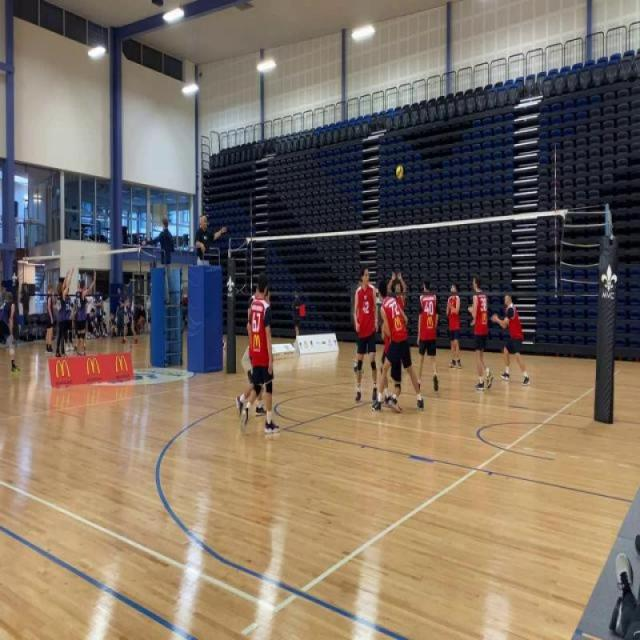volleyball: (394, 163, 406, 181)
